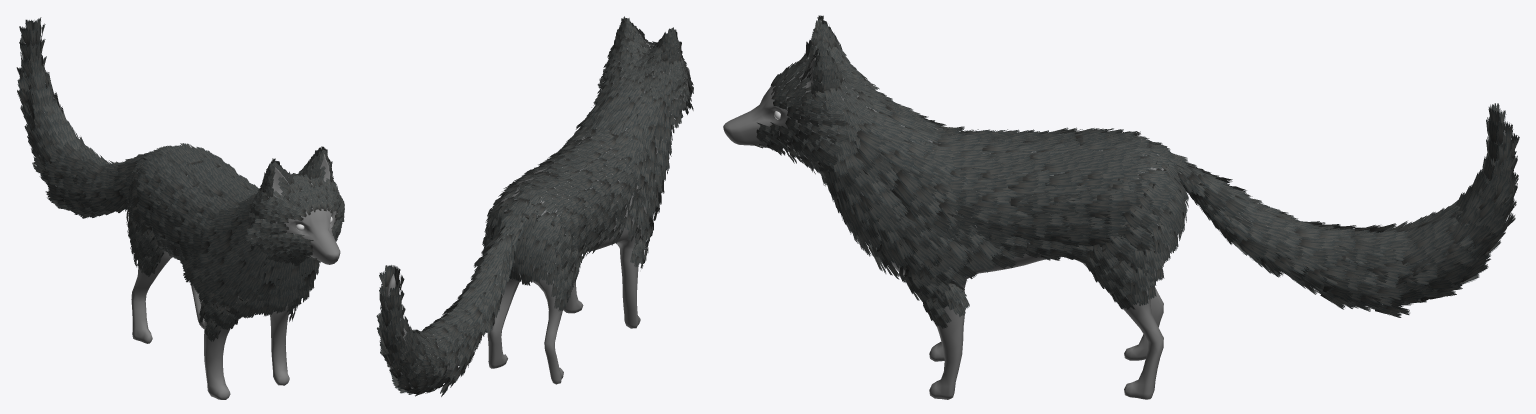
Rendered from fox.fbx.
The picture shows the model from 3 angles, left to right: view 1: azimuth 30°, elevation 25°; view 2: azimuth 150°, elevation 25°; view 3: azimuth 270°, elevation 25°; orthographic projection. The views are drawn at different scales.
Parts seen in each view (by area): view 1: polySurface428; view 2: polySurface428; view 3: polySurface428.
Boxes of the visible parts, bbox=[...] form: polySurface428: bbox=[16, 17, 344, 399]; polySurface428: bbox=[376, 16, 693, 396]; polySurface428: bbox=[723, 15, 1519, 399].
Size of the model in its own units: 3.26 by 8.46 by 17.52.
